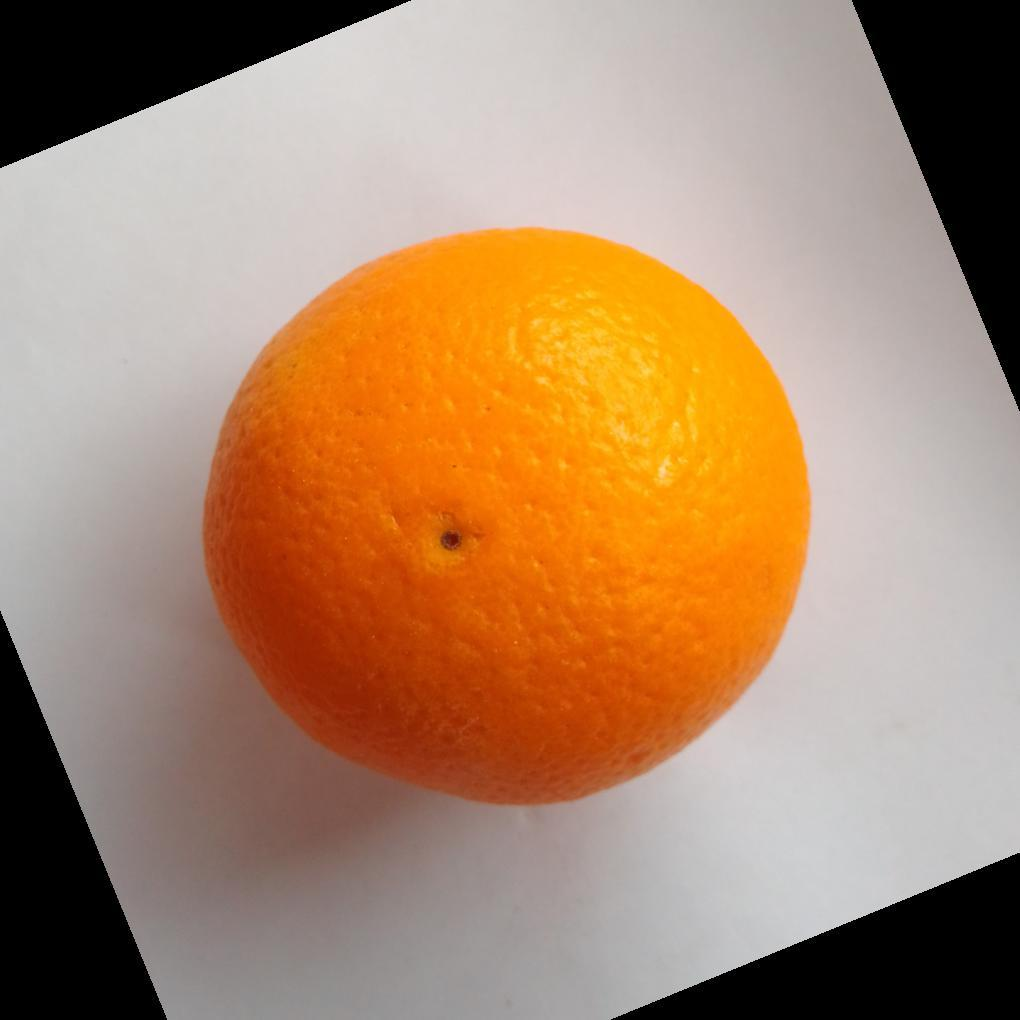FreshGuava: (199, 227, 813, 811)
